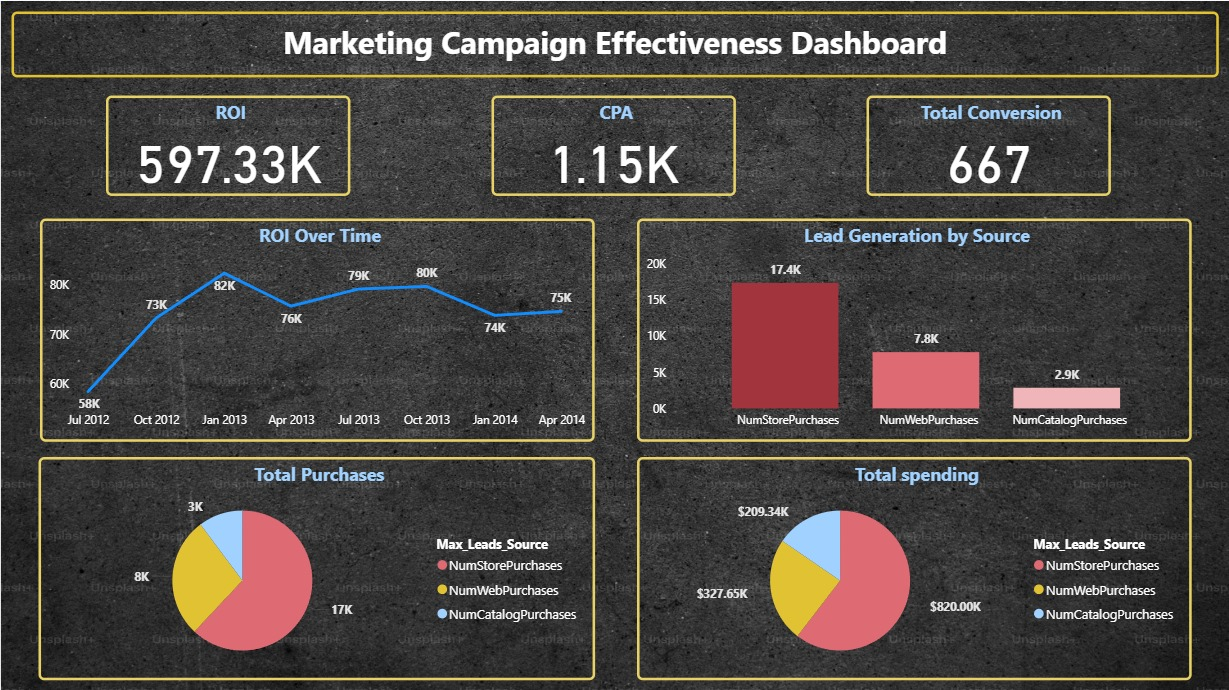

The dashboard page shown, as its layout file describes it:
{"tool":"powerbi","page":{"name":"Page 1","canvas":[1280,720],"ordinal":0},"visuals":[{"type":"card","title":"ROI","fields":{"Values":["Sum(updated_last.ROI)"]},"box":[109.4,98.5,254.8,104.7],"z":0},{"type":"card","title":"CPA","fields":{"Values":["Sum(updated_last.CPA)"]},"box":[511.1,98.5,254.8,104.7],"z":1000},{"type":"card","title":"Total Conversion","fields":{"Values":["Sum(updated_last.Total_Conversions)"]},"box":[901.8,98.5,254.8,104.7],"z":2000},{"type":"clusteredColumnChart","title":"Lead Generation by Source","fields":{"Category":["updated_last.Max_Leads_Source"],"Y":["Sum(updated_last.Total_Leads)"]},"box":[662.7,226.6,578.3,232.9],"z":3000},{"type":"lineChart","title":"ROI Over Time","fields":{"Category":["updated_last.Dt_Customer.Variation.Date Hierarchy.Year","updated_last.Dt_Customer.Variation.Date Hierarchy.Quarter","updated_last.Dt_Customer.Variation.Date Hierarchy.Month","updated_last.Dt_Customer.Variation.Date Hierarchy.Day"],"Y":["Sum(updated_last.ROI)"]},"box":[40.6,226.6,578.3,232.9],"z":4000},{"type":"pieChart","title":"Total Purchases","fields":{"Category":["updated_last.Max_Leads_Source"],"Y":["Sum(updated_last.Total_Purchases)"]},"box":[39.1,475.1,579.9,232.9],"z":5000},{"type":"pieChart","title":"Total spending","fields":{"Category":["updated_last.Max_Leads_Source"],"Y":["Sum(updated_last.Total_Spent)"]},"box":[662.7,475.1,578.3,232.9],"z":6000},{"type":"textbox","box":[10.9,10.9,1258.2,68.8],"z":6001}]}

Visuals, with their boxes in screenshot pixels (x1, y1, x2, y2), scaled from the page's 1280x720 canvas onto the 1229x690 screenshot:
"ROI" card: box=[105, 94, 350, 195]
"CPA" card: box=[491, 94, 735, 195]
"Total Conversion" card: box=[866, 94, 1111, 195]
"Lead Generation by Source" clusteredColumnChart: box=[636, 217, 1192, 440]
"ROI Over Time" lineChart: box=[39, 217, 594, 440]
"Total Purchases" pieChart: box=[38, 455, 594, 678]
"Total spending" pieChart: box=[636, 455, 1192, 678]
textbox: box=[10, 10, 1219, 76]
